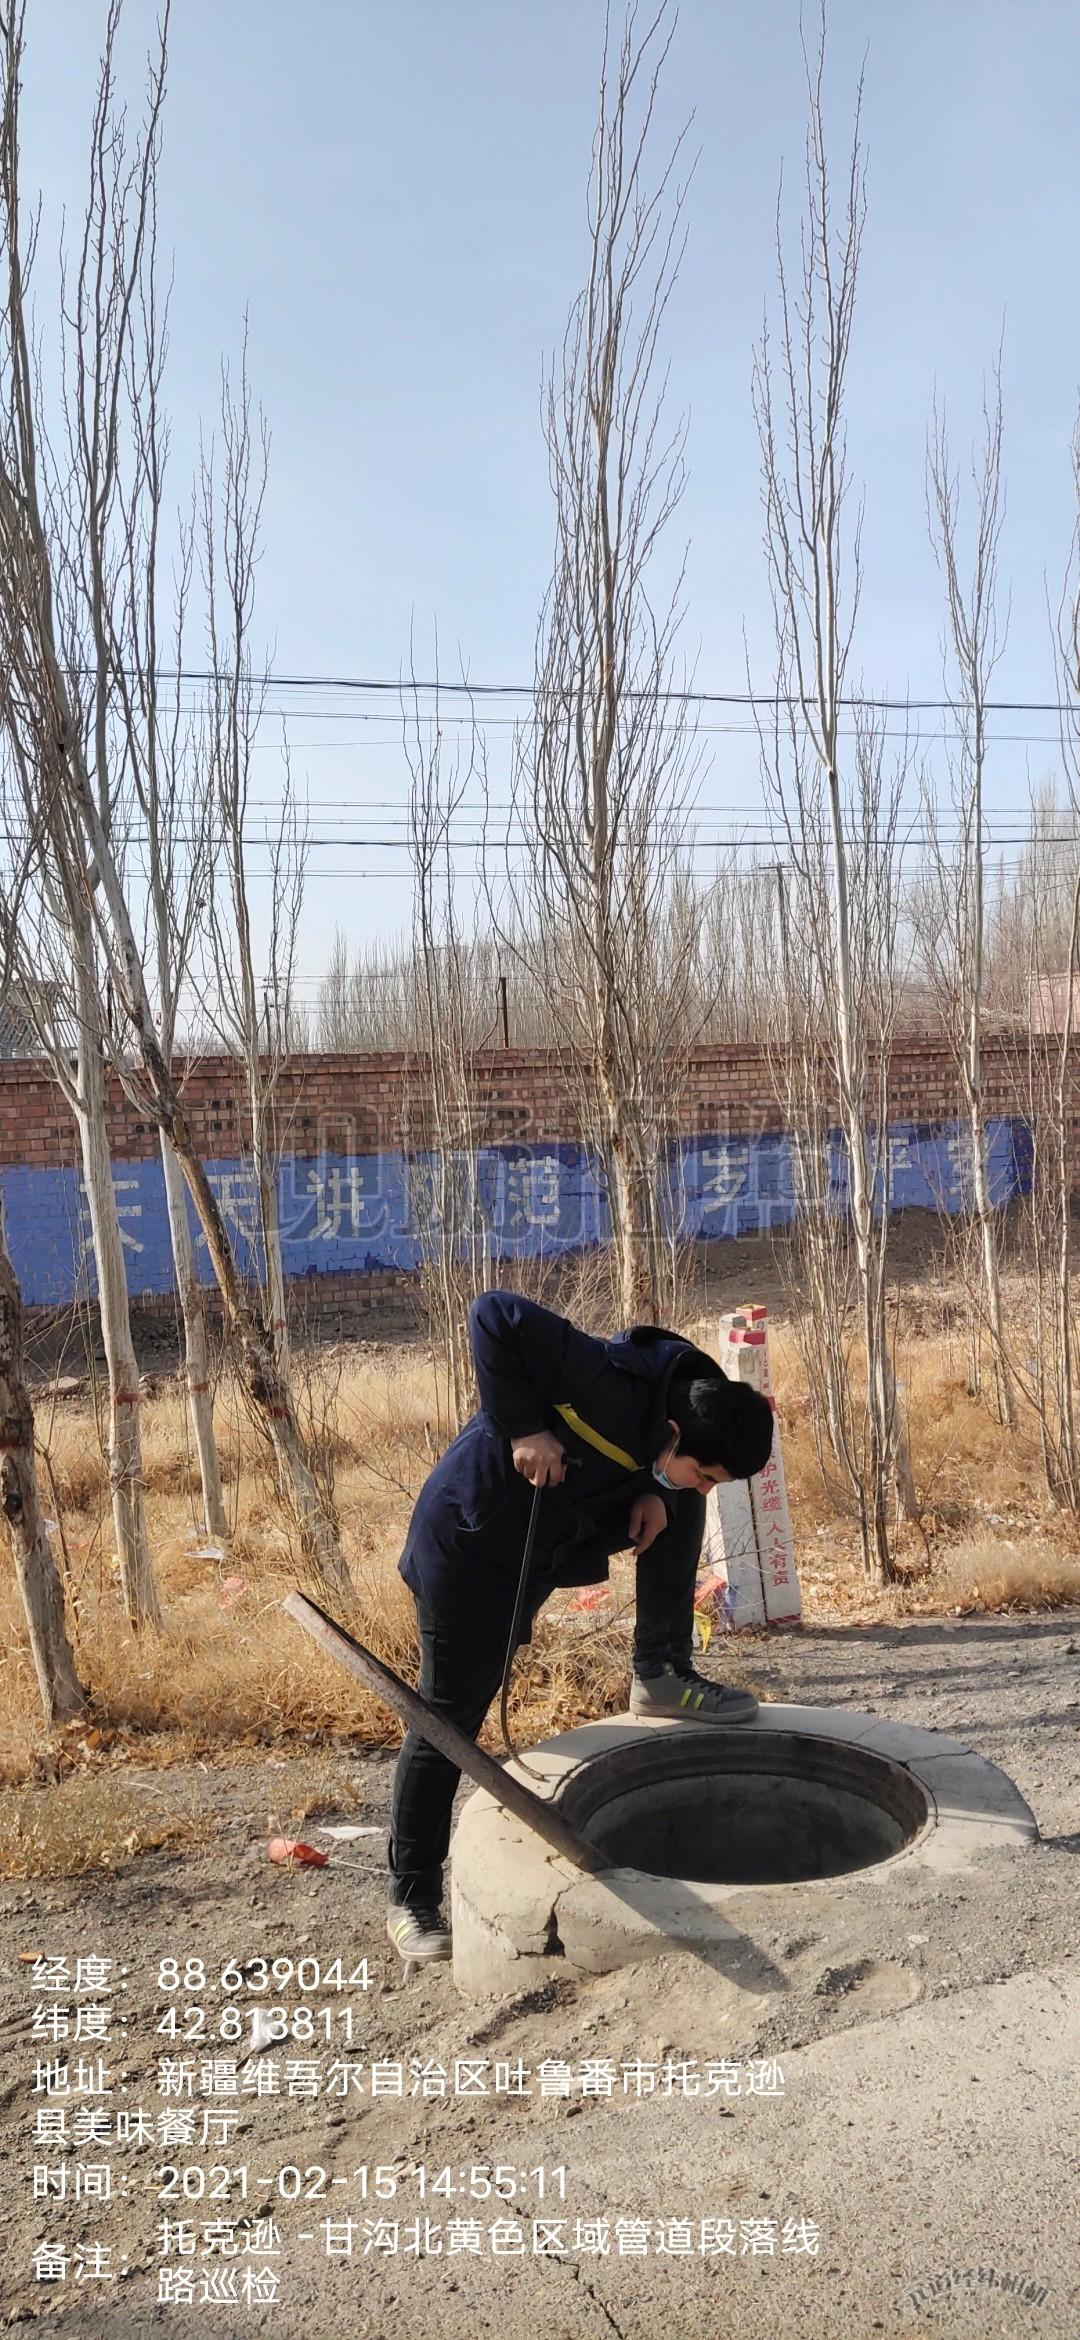wellcover: (501, 1677, 986, 1909)
